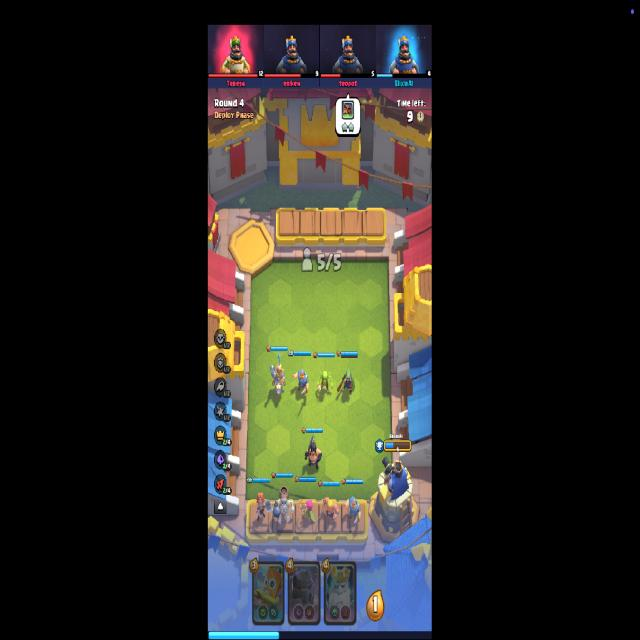archer: (300, 499, 316, 528)
bandit: (338, 369, 356, 398)
barbarian: (319, 496, 338, 522)
card_dart_goblin: (250, 560, 285, 627)
card_mega_knight: (287, 560, 321, 627)
card_royal_ghost: (324, 560, 357, 626)
executioner: (304, 434, 322, 471)
giant_skeleton: (272, 489, 294, 525)
goblin: (316, 370, 334, 395)
knight: (293, 368, 309, 399), (344, 496, 360, 523)
prince: (271, 353, 287, 399)
valkyrie: (255, 494, 270, 524)
